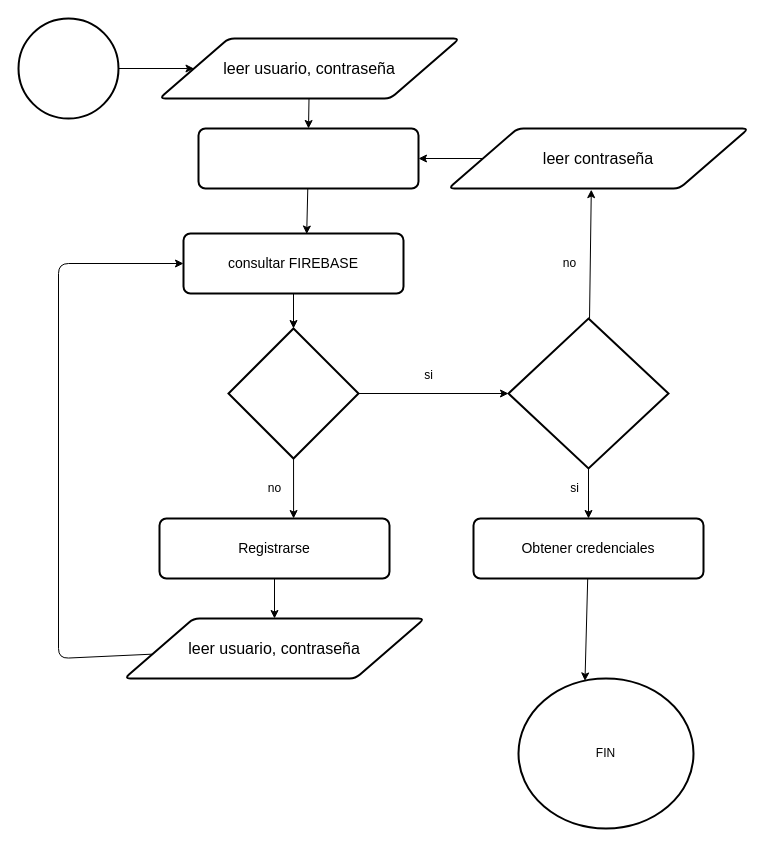
The diagram is 766 pixels wide and 846 high, and some of its shapes have lost their labels. The centre of each missing label's shape, as x and y in pixels:
"contraseña correcta?" goes at pixel 588 393.
"correo valido?" goes at pixel 293 393.
"LOGIN" goes at pixel 68 68.
"Validar usuario y password" goes at pixel 308 158.
